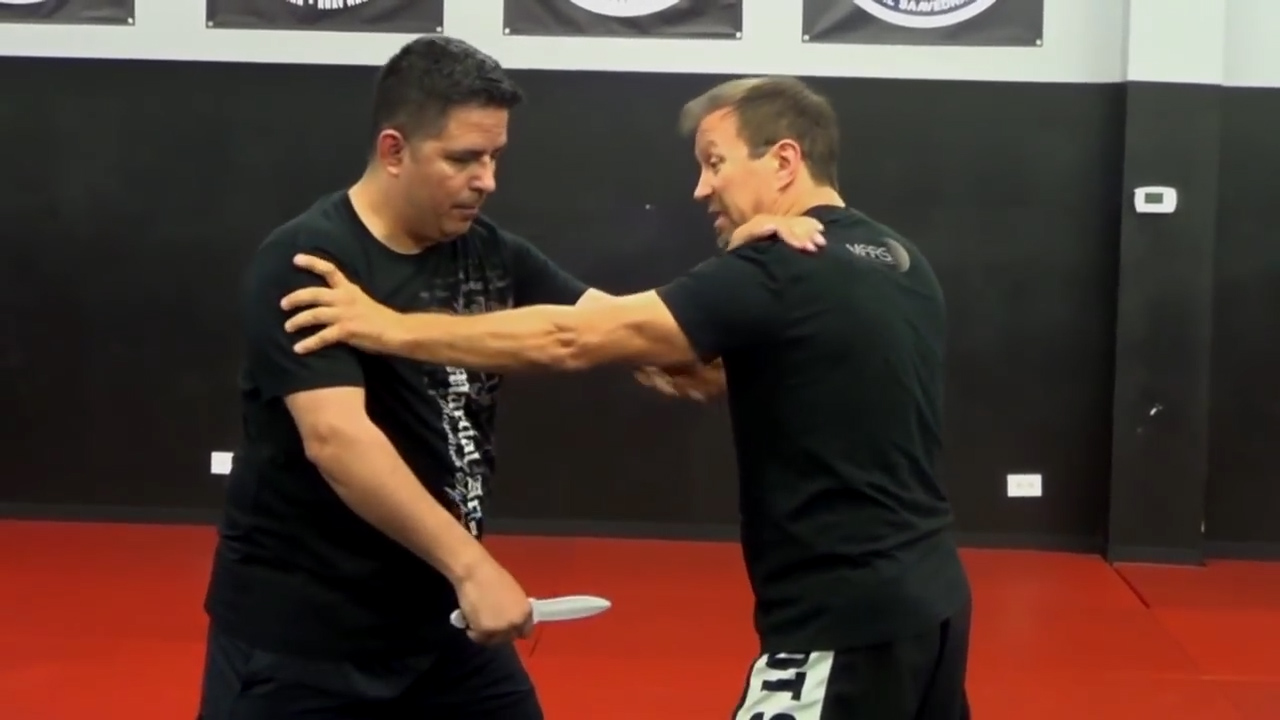knife: (440, 584, 621, 646)
